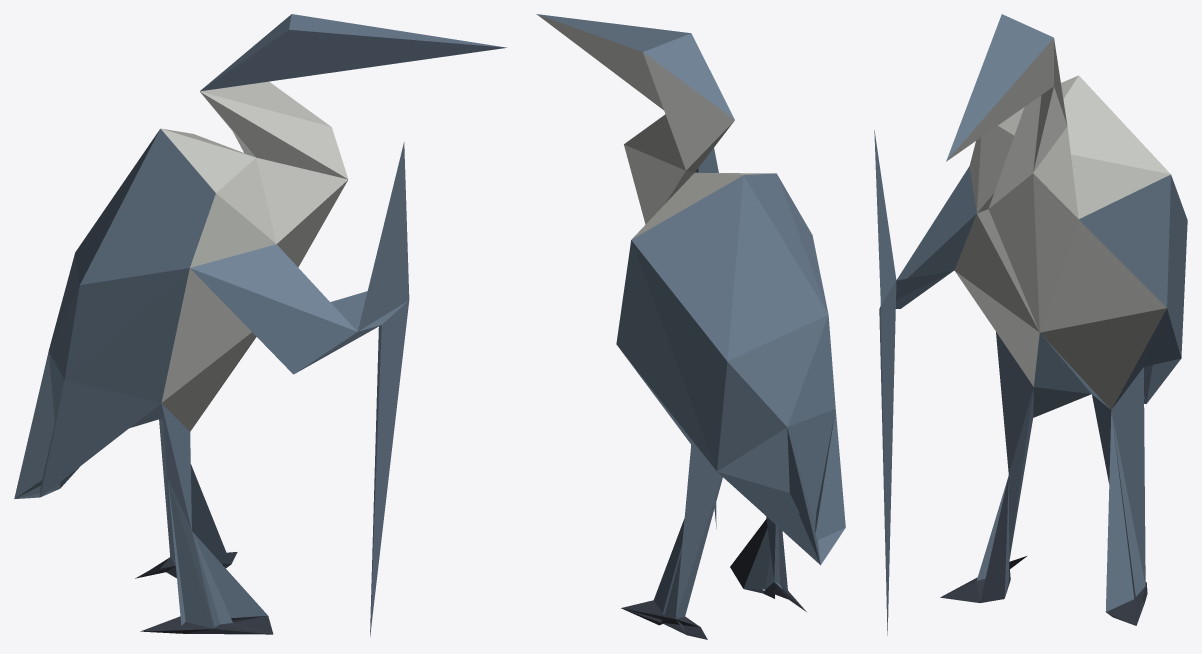
3 views of the same model, side by side, from view 1: azimuth 30°, elevation 25°; view 2: azimuth 150°, elevation 25°; view 3: azimuth 270°, elevation 25° (orthographic). The views are drawn at different scales.
Parts seen in each view (by area): view 1: lion-200; view 2: lion-200; view 3: lion-200.
Part boxes in pixels (x1,y1,x2,y2): lion-200: (14,14,506,636); lion-200: (536,14,845,639); lion-200: (874,14,1187,635).
Bounding box in the file's own units: 0.7197 × 1 × 0.4614.
